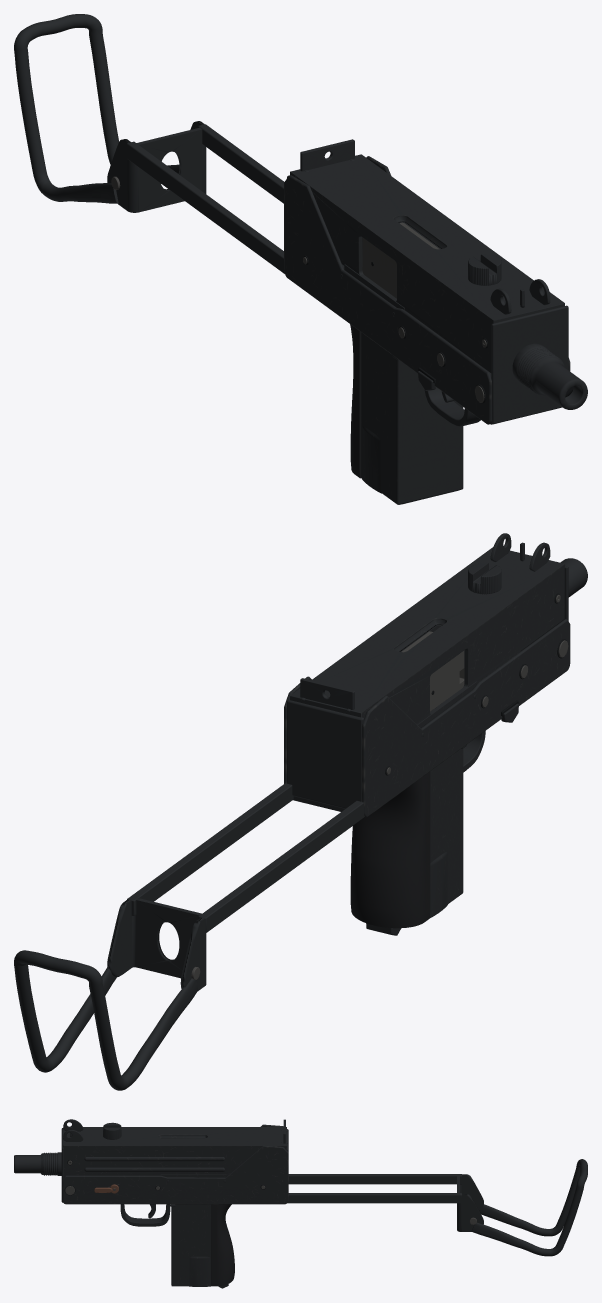
The model's file is SM_MAC10_LOD1.fbx.
The picture shows the model from 3 angles, top to bottom: view 1: azimuth 30°, elevation 25°; view 2: azimuth 150°, elevation 25°; view 3: azimuth 270°, elevation 25°; orthographic projection. The views are drawn at different scales.
Visible parts, largest first — view 1: SM_MAC10_LOD1; view 2: SM_MAC10_LOD1; view 3: SM_MAC10_LOD1.
Part boxes in pixels (<box>): SM_MAC10_LOD1: <box>14,14,587,504</box>; SM_MAC10_LOD1: <box>14,533,587,1090</box>; SM_MAC10_LOD1: <box>14,1119,587,1288</box>.
Bounding box in the file's own units: 5.61 × 55.8 × 17.21.
Materials: 2 (2 with a texture image).
